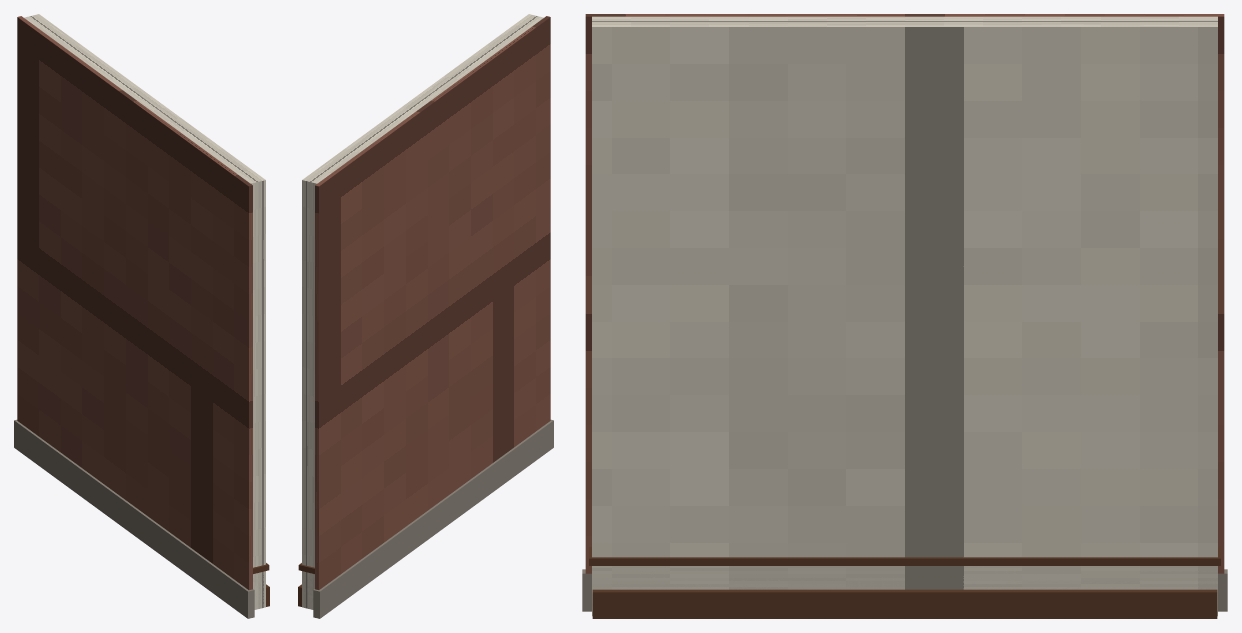
Rendered from middle_left.glb.
The picture shows the model from 3 angles, left to right: view 1: azimuth 30°, elevation 25°; view 2: azimuth 150°, elevation 25°; view 3: azimuth 270°, elevation 25°; orthographic projection. The views are drawn at different scales.
Parts seen in each view (by area): view 1: Box3, Box1, Box4; view 2: Box3, Box1, Box4, Box5; view 3: Box1, Box2, Box5, Box3, Box6.
Boxes of the visible parts, x1,y1,x2,y2 form: Box3: (17, 16, 252, 589); Box1: (24, 14, 265, 609); Box4: (14, 419, 254, 618); Box3: (315, 16, 550, 589); Box1: (302, 14, 543, 609); Box4: (313, 419, 553, 618); Box5: (302, 572, 314, 609); Box1: (592, 16, 1217, 616); Box2: (592, 589, 1217, 618); Box5: (592, 566, 1217, 615); Box3: (585, 14, 1224, 573); Box6: (589, 547, 1220, 565).
Bounding box in the file's own units: 0.25 × 4.04 × 3.97.
4 materials, 2 textured.
